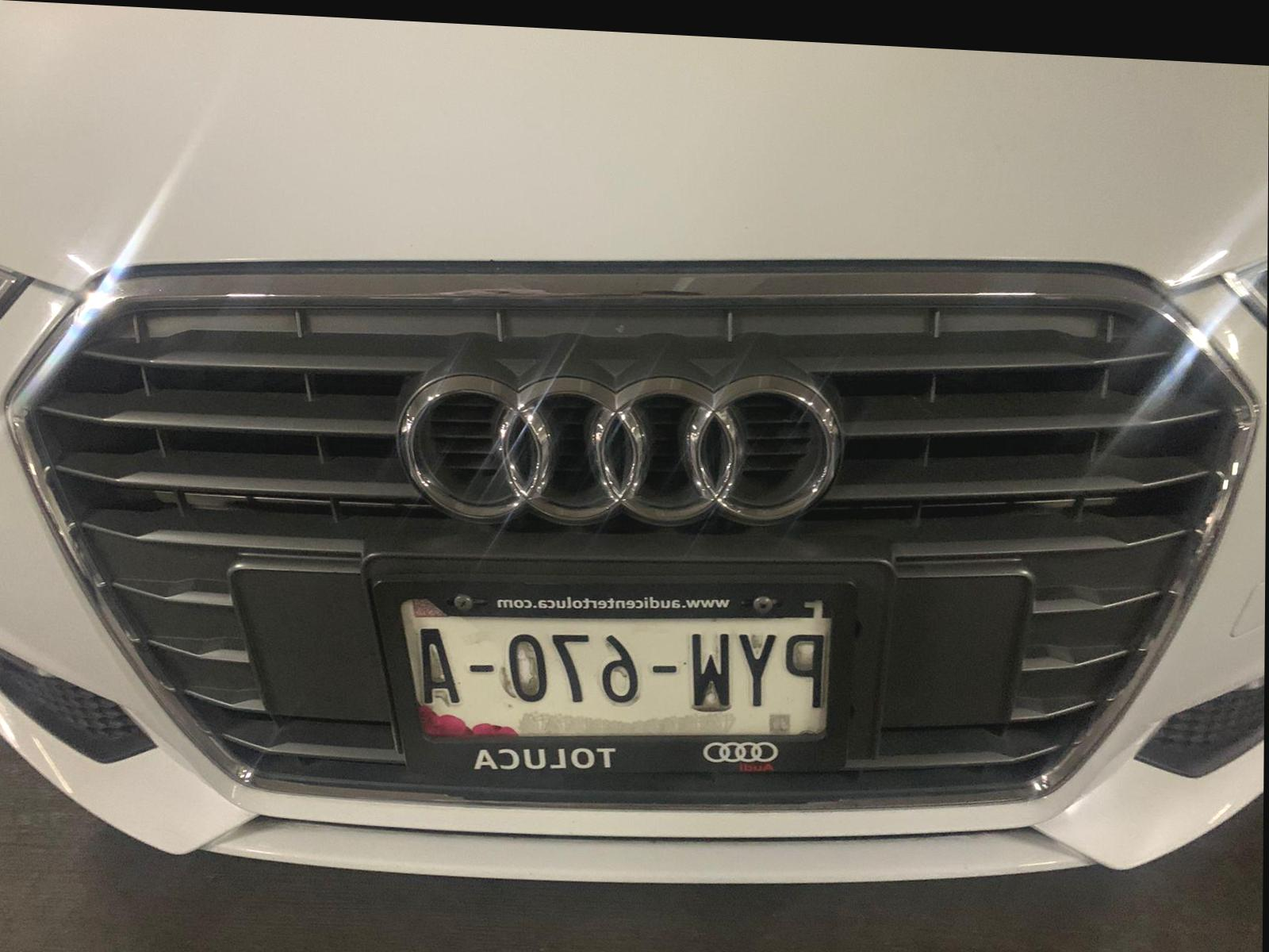License_Plate: (368, 533, 872, 815)
